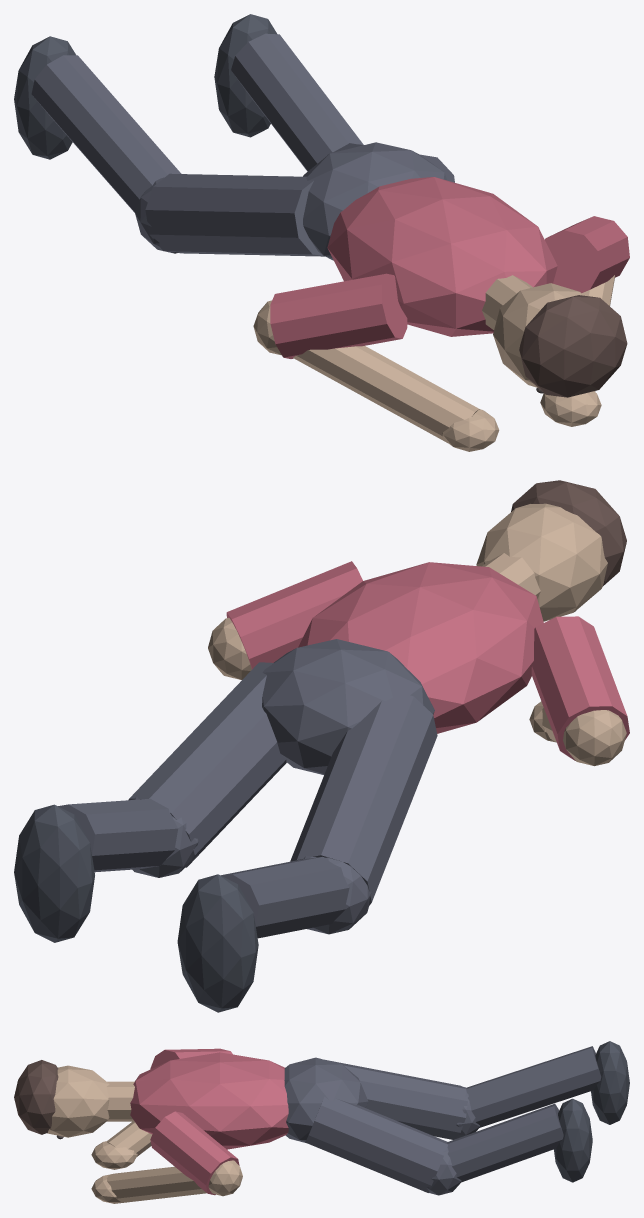
The picture shows the model from 3 angles, top to bottom: view 1: azimuth 30°, elevation 25°; view 2: azimuth 150°, elevation 25°; view 3: azimuth 270°, elevation 25°; orthographic projection. The views are drawn at different scales.
Visible parts, largest first — view 1: world; view 2: world; view 3: world.
Boxes of the visible parts, bbox=[...] form: world: bbox=[14, 14, 629, 451]; world: bbox=[14, 480, 629, 1012]; world: bbox=[14, 1041, 629, 1203].
Size of the model in its own units: 0.93 by 0.4363 by 1.99.
